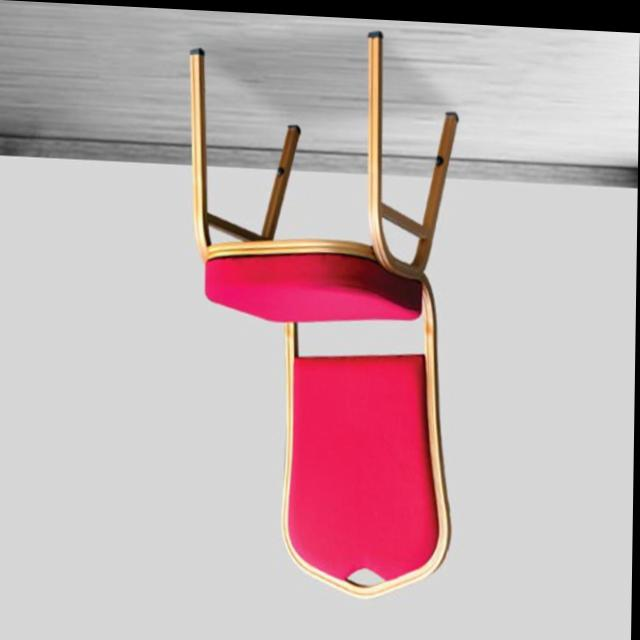Chair: (180, 34, 463, 592)
